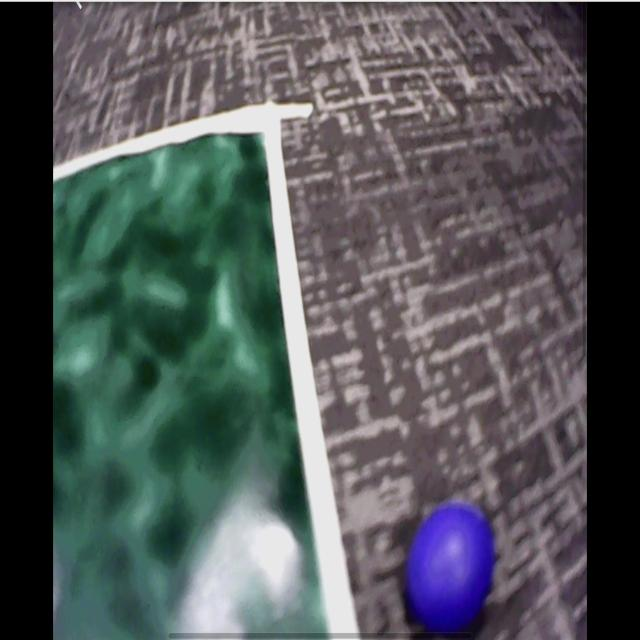ball: (409, 504, 497, 635)
